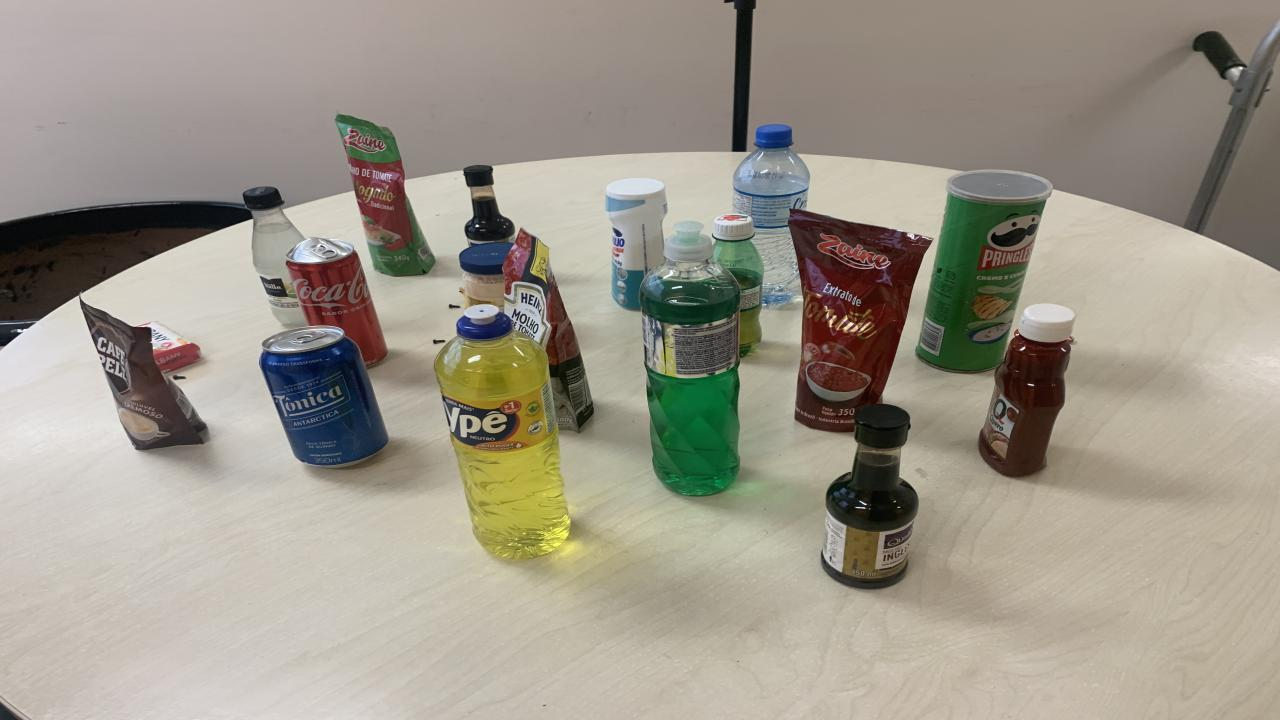Cleaner-Cleanup_Items: (605, 178, 668, 309)
Coffee-Pantry_Items: (80, 298, 208, 450)
Coke-Drinks: (285, 238, 388, 366)
Detergent-Cleanup_Items: (435, 306, 570, 559), (640, 223, 740, 495)
English_Sauce-Pantry_Items: (822, 405, 918, 589), (462, 165, 515, 246)
Guarana-Drinks: (712, 214, 765, 356)
Ketchup-Pantry_Items: (978, 304, 1075, 476)
Mayonnaise-Pantry_Items: (460, 242, 512, 309)
Pringles-Snacks: (918, 171, 1052, 373)
Soap-Cleanup_Items: (138, 321, 202, 373)
Soda-Drinks: (242, 188, 308, 326)
Tomato_Sauce-Pantry_Items: (788, 210, 932, 433), (502, 229, 595, 431), (335, 114, 435, 276)
Tonic-Drinks: (260, 326, 388, 467)
Water_Bottle-Drinks: (732, 124, 810, 306)
